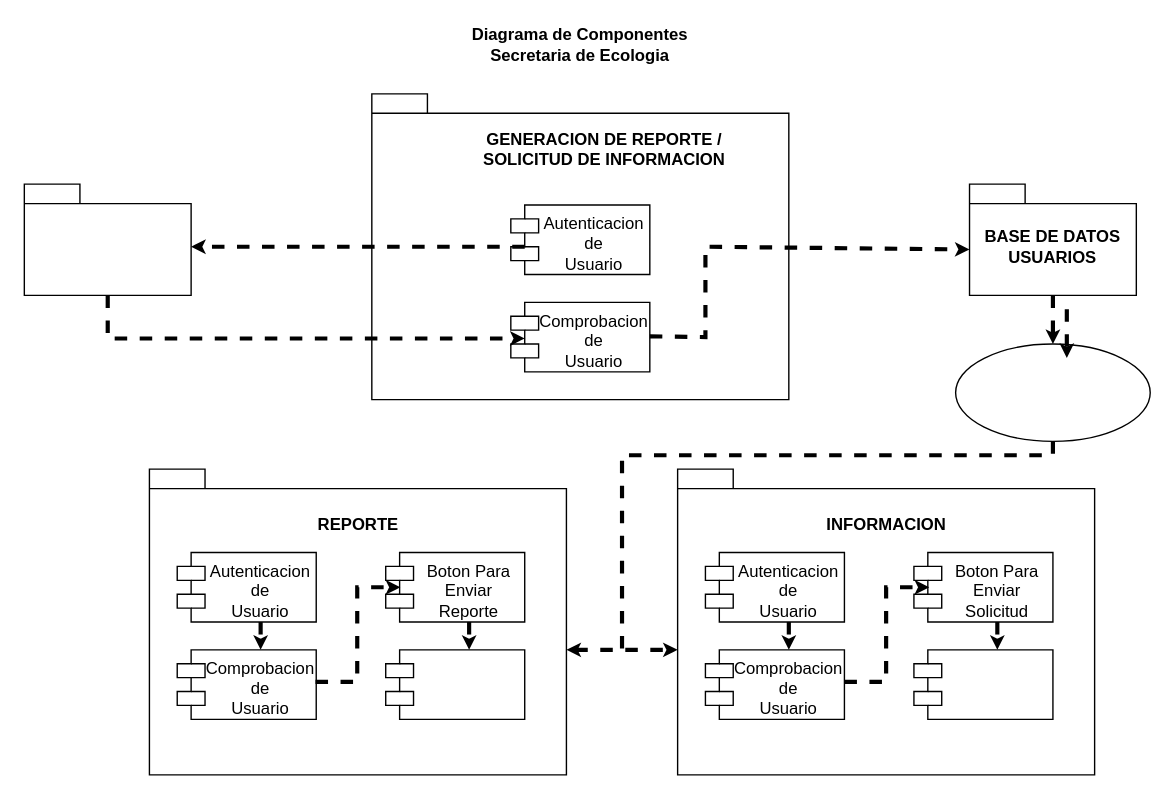
Image size: 1175x799. Some labels were removed from this diagram. Each missing label, with the centre of its shape:
Creacion de Reporte / Solicitud: (x=1052, y=392)
HOST: (x=107, y=239)
Notificacion de Envio de Reporte: (x=454, y=683)
Notificacion de Envio de Solicitud: (x=983, y=683)
